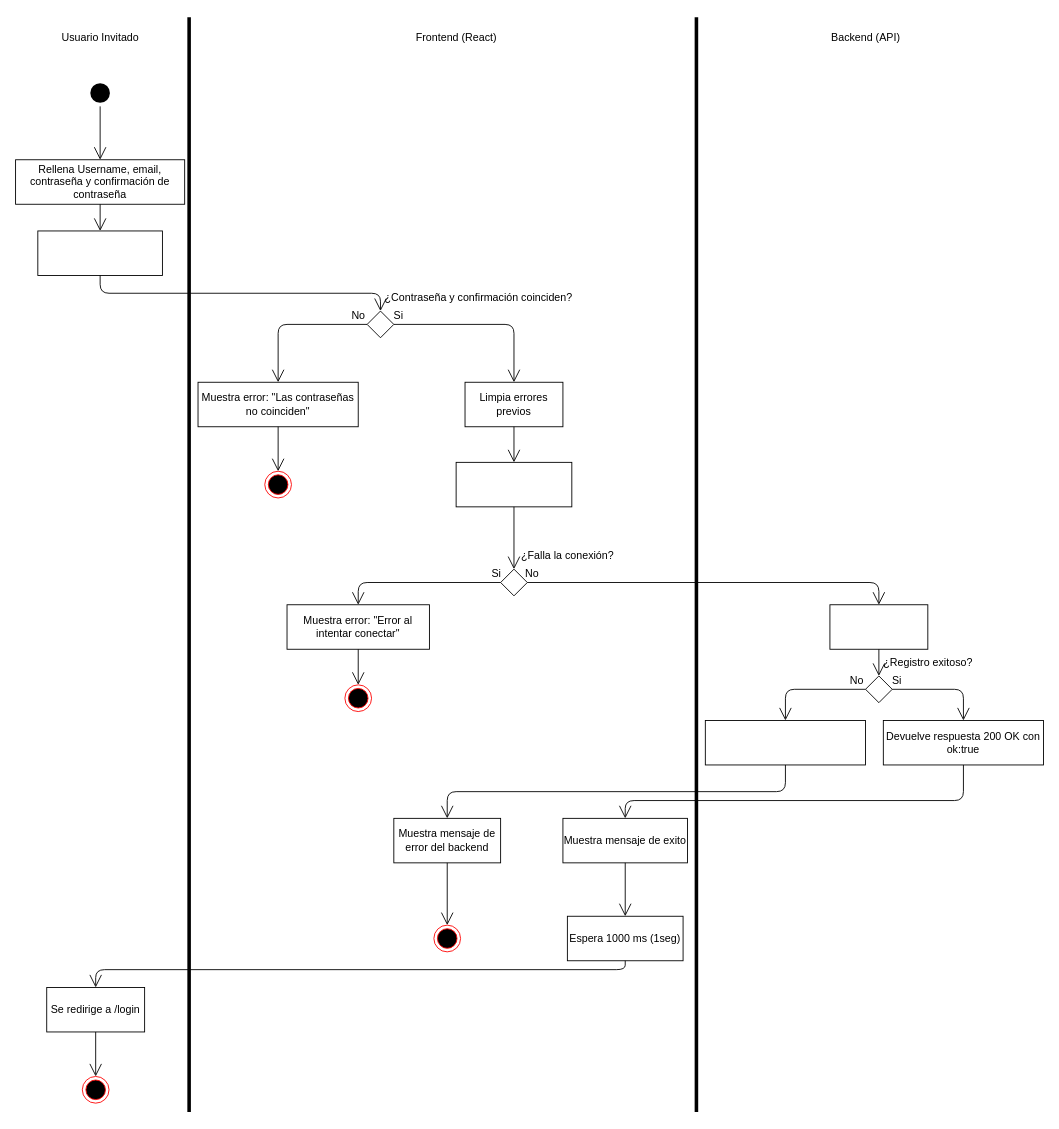
This 1059x1129 diagram has some shape labels left out. The centre of each missing label's shape, as x and y in pixels:
Devuelve respuesta con ok:false y mensaje de error: the point at 785,742
Inicia petición POST a "api/auth/register": the point at 513,484
Procesa los datos de registro: the point at 878,626
Pulsa el botón "Crear": the point at 99,252
